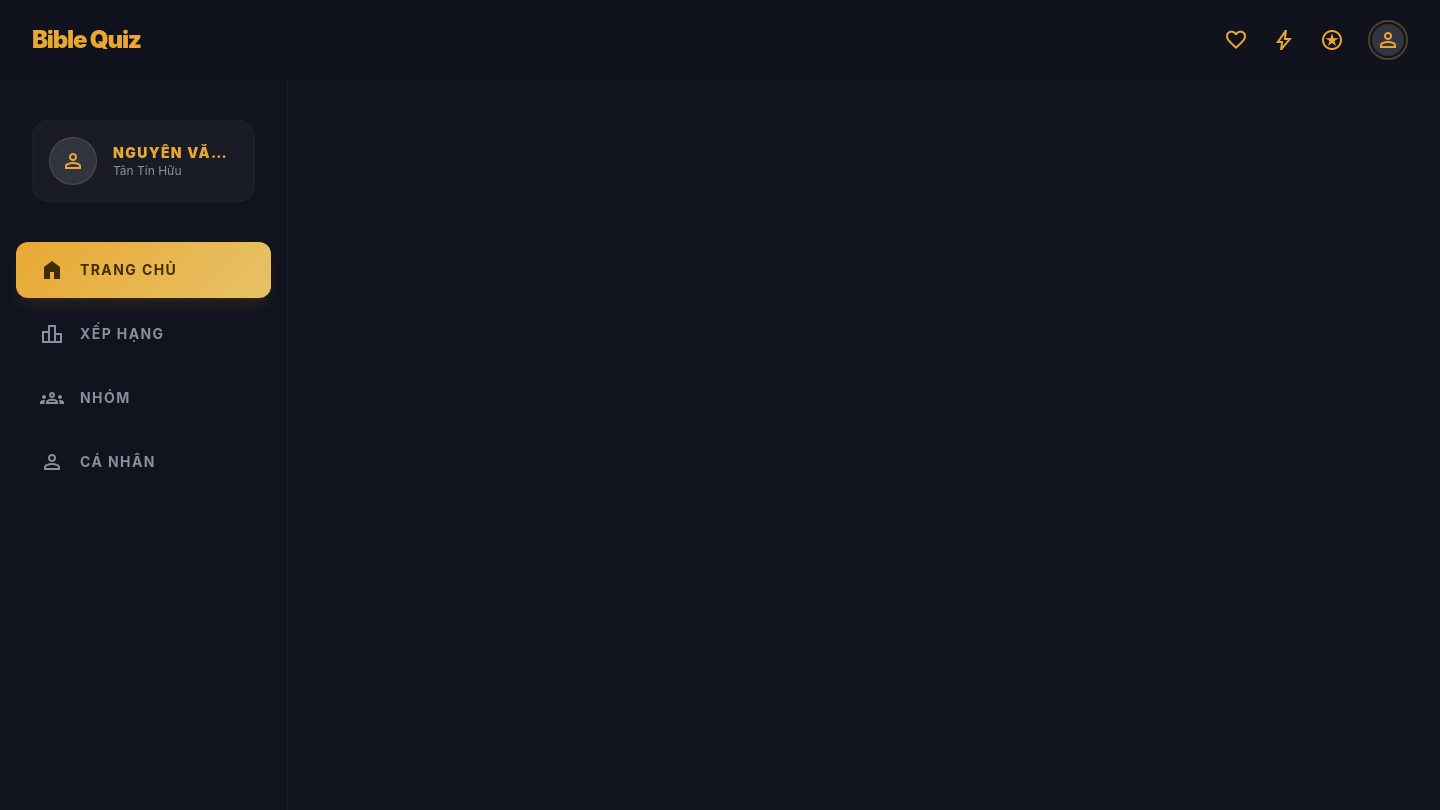
AppLayout — Logout › shows dropdown with logout when avatar is clicked
// Avatar button is the last button-like element in the header
Click the button at (1388, 40), box [1368, 20, 1408, 60]
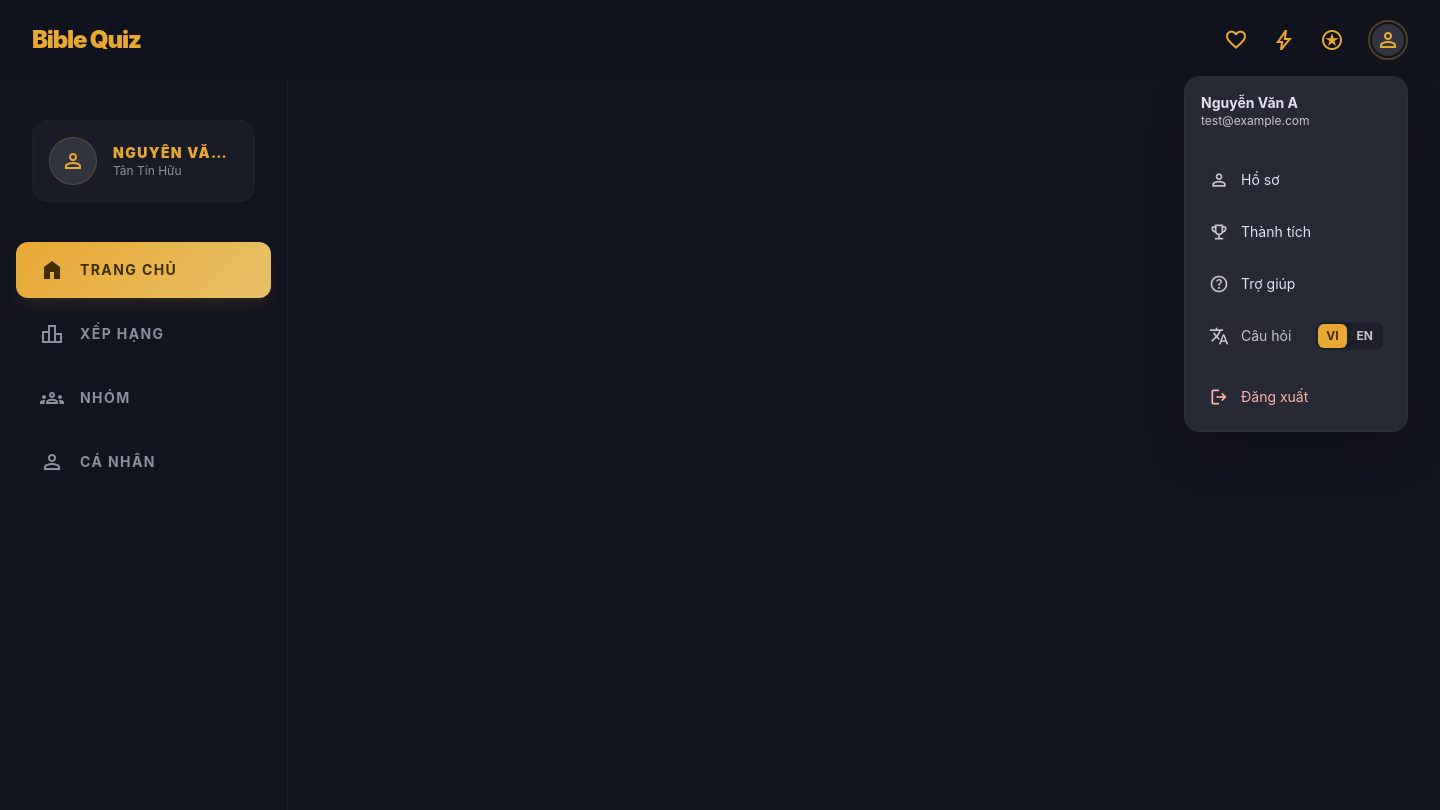
Check: the button "Đăng xuất" is shown, box [1193, 371, 1399, 423]
